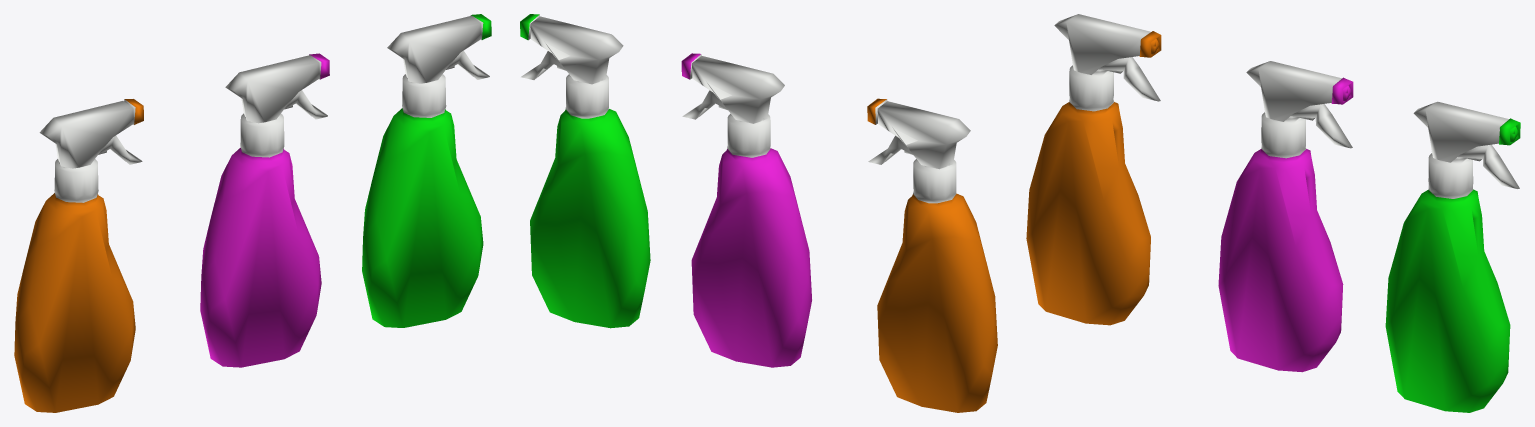
The model's file is sprayslow.fbx.
3 renders of one model, left to right at view 1: azimuth 30°, elevation 25°; view 2: azimuth 150°, elevation 25°; view 3: azimuth 330°, elevation 25°, orthographic. The views are drawn at different scales.
Visible parts, largest first — view 1: pinkspray, greenspray, orangespray; view 2: pinkspray, orangespray, greenspray; view 3: greenspray, orangespray, pinkspray.
Part boxes in pixels (<box>): pinkspray: <box>200,53,329,367</box>; greenspray: <box>362,14,491,327</box>; orangespray: <box>14,99,143,412</box>; pinkspray: <box>681,53,811,367</box>; orangespray: <box>867,98,997,412</box>; greenspray: <box>520,14,650,328</box>; greenspray: <box>1385,101,1520,412</box>; orangespray: <box>1026,14,1161,325</box>; pinkspray: <box>1218,61,1353,372</box>.
Size of the model in its own units: 35.19 by 19.88 by 3.63.
